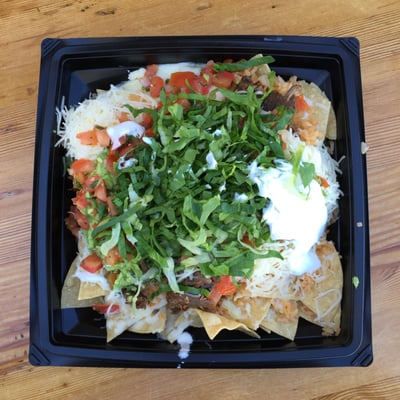sandwich: (50, 57, 346, 347)
